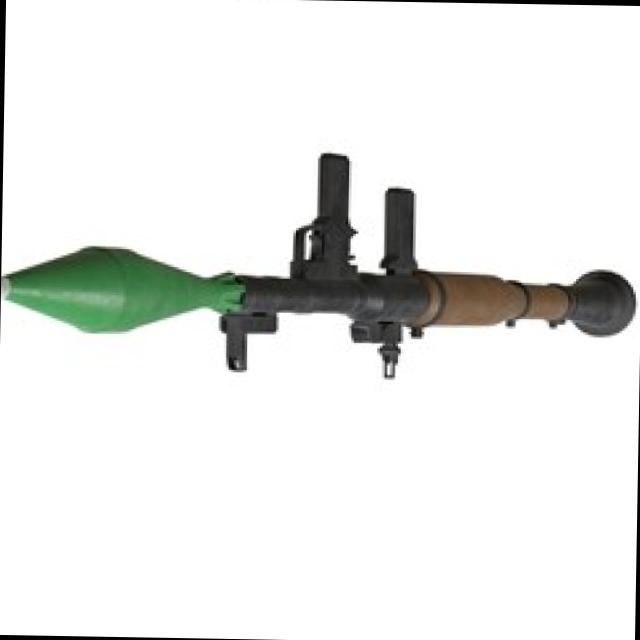Gun: (0, 103, 638, 427)
